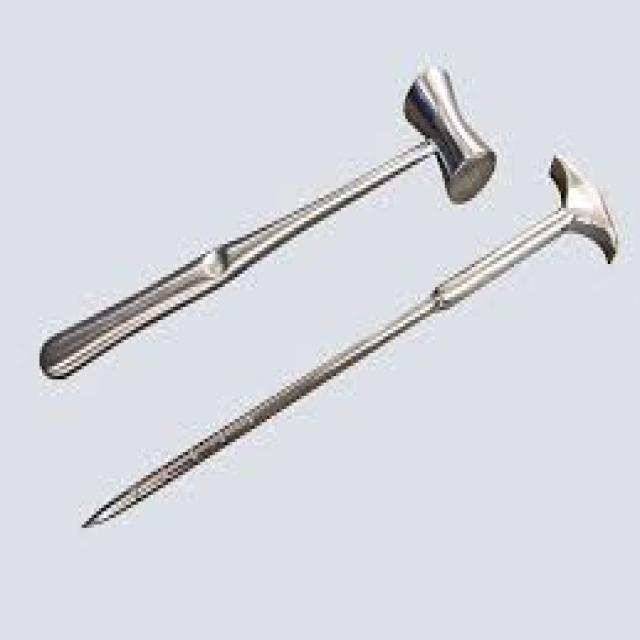Palu: (27, 64, 492, 383)
